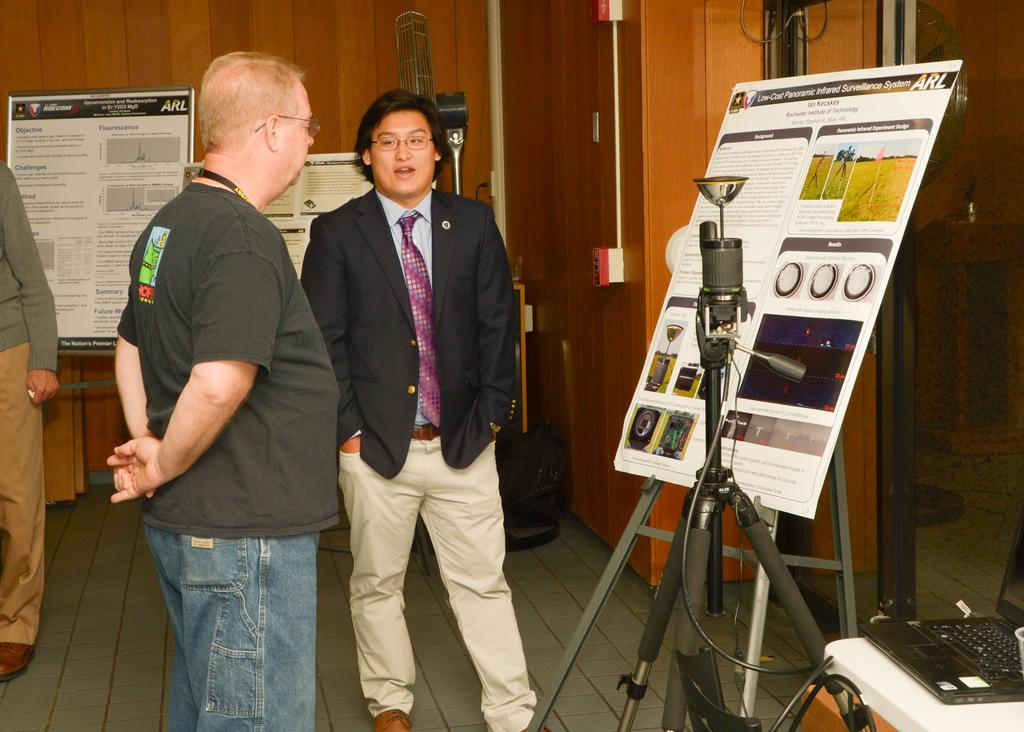Computer-keyboard: (913, 617, 1023, 686)
